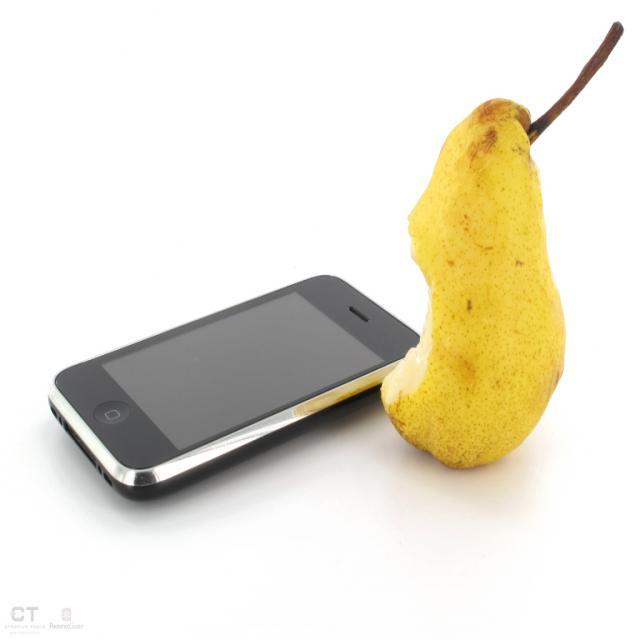Pear: (380, 96, 566, 472)
